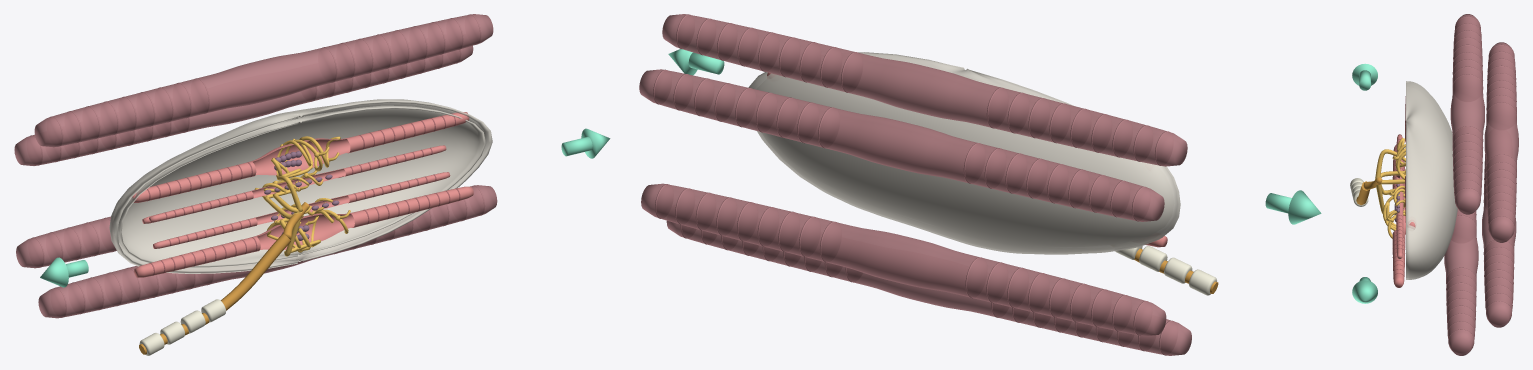
File: muscle-spindle-DCmVzdOB.glb
The picture shows the model from 3 angles, left to right: view 1: azimuth 30°, elevation 25°; view 2: azimuth 150°, elevation 25°; view 3: azimuth 270°, elevation 25°; orthographic projection. The views are drawn at different scales.
Parts seen in each view (by area): view 1: muscle-spindle__extrafusal-fibers__01, muscle-spindle__capsule__01, muscle-spindle__intrafusal-fibers__01, muscle-spindle__primary-ending__02, muscle-spindle__contractile-poles__01, muscle-spindle__myelin__01, muscle-spindle__axon__01, muscle-spindle__intrafusal-fibers__02, muscle-spindle__stimulus-left__02; view 2: muscle-spindle__extrafusal-fibers__01, muscle-spindle__capsule__01, muscle-spindle__myelin__01, muscle-spindle__stimulus-left__02, muscle-spindle__stimulus-right__01; view 3: muscle-spindle__extrafusal-fibers__01, muscle-spindle__capsule__01, muscle-spindle__primary-ending__02, muscle-spindle__intrafusal-fibers__01, muscle-spindle__stimulus-right__02, muscle-spindle__contractile-poles__01, muscle-spindle__stimulus-left__02, muscle-spindle__myelin__01, muscle-spindle__stimulus-left__01, muscle-spindle__axon__01.
Part boxes in pixels (x1,y1,x2,y2): muscle-spindle__extrafusal-fibers__01: (14,14,497,318); muscle-spindle__capsule__01: (109,99,492,273); muscle-spindle__intrafusal-fibers__01: (131,112,473,277); muscle-spindle__primary-ending__02: (254,136,350,256); muscle-spindle__contractile-poles__01: (147,113,460,275); muscle-spindle__myelin__01: (139,299,225,355); muscle-spindle__axon__01: (139,234,290,354); muscle-spindle__intrafusal-fibers__02: (264,151,339,241); muscle-spindle__stimulus-left__02: (40,257,68,287); muscle-spindle__extrafusal-fibers__01: (639,14,1191,355); muscle-spindle__capsule__01: (748,52,1180,254); muscle-spindle__myelin__01: (1115,245,1216,295); muscle-spindle__stimulus-left__02: (1288,190,1321,224); muscle-spindle__stimulus-right__01: (688,52,724,74); muscle-spindle__extrafusal-fibers__01: (1444,14,1518,355); muscle-spindle__capsule__01: (1406,81,1457,279); muscle-spindle__primary-ending__02: (1375,137,1405,238); muscle-spindle__intrafusal-fibers__01: (1392,97,1415,287); muscle-spindle__stimulus-right__02: (1352,280,1377,303); muscle-spindle__contractile-poles__01: (1392,96,1405,278); muscle-spindle__stimulus-left__02: (1352,63,1377,85); muscle-spindle__myelin__01: (1350,178,1368,206); muscle-spindle__stimulus-left__01: (1359,70,1370,90); muscle-spindle__axon__01: (1356,181,1370,205).
Size of the model in its own units: 4.26 by 1.46 by 1.3.
